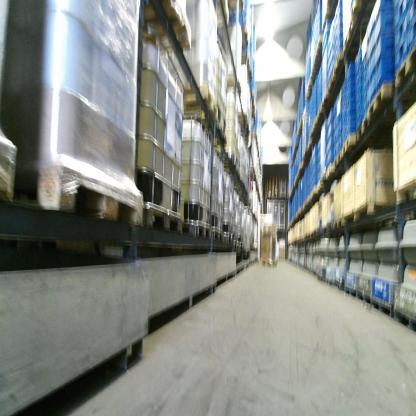pallet: (24, 159, 144, 229), (145, 3, 197, 52), (177, 95, 228, 137), (133, 199, 182, 236), (3, 122, 22, 209), (366, 81, 395, 123), (391, 47, 416, 95), (357, 110, 390, 143), (341, 27, 373, 53), (332, 51, 361, 79), (348, 1, 374, 32), (181, 220, 212, 242), (391, 307, 414, 334), (341, 131, 359, 158), (370, 299, 392, 319), (326, 74, 344, 96), (217, 1, 246, 13), (237, 112, 251, 136), (327, 162, 343, 181), (315, 37, 329, 57), (209, 223, 224, 241), (356, 291, 374, 306), (342, 285, 358, 300), (221, 231, 235, 246), (333, 151, 342, 173), (258, 258, 276, 268), (240, 53, 250, 70), (319, 172, 329, 188), (334, 278, 345, 292), (310, 187, 319, 203), (306, 192, 315, 207), (242, 27, 249, 46), (326, 276, 334, 290), (249, 106, 257, 120), (324, 222, 335, 231), (302, 204, 315, 211), (314, 229, 323, 239), (317, 273, 325, 283), (246, 70, 252, 83), (250, 91, 255, 105)
small_load_carrier: (373, 49, 395, 90), (375, 30, 398, 66), (376, 10, 392, 45), (395, 11, 407, 56), (394, 36, 409, 71), (373, 1, 392, 24), (364, 83, 378, 114), (362, 26, 372, 66), (396, 1, 408, 30), (363, 58, 374, 89), (409, 17, 416, 51), (408, 0, 415, 28), (335, 135, 342, 155), (335, 94, 342, 113), (335, 120, 342, 139), (336, 110, 342, 126)
